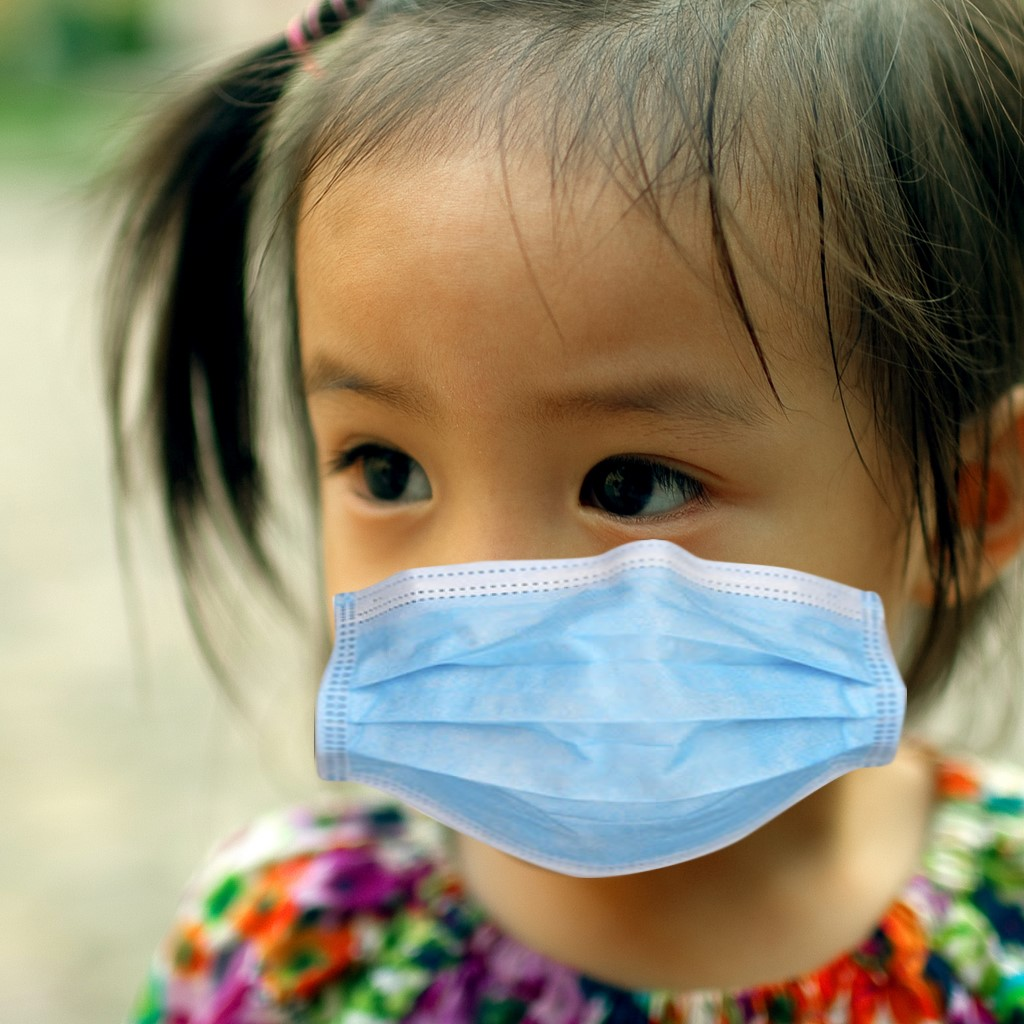con_mascara: (286, 118, 922, 849)
